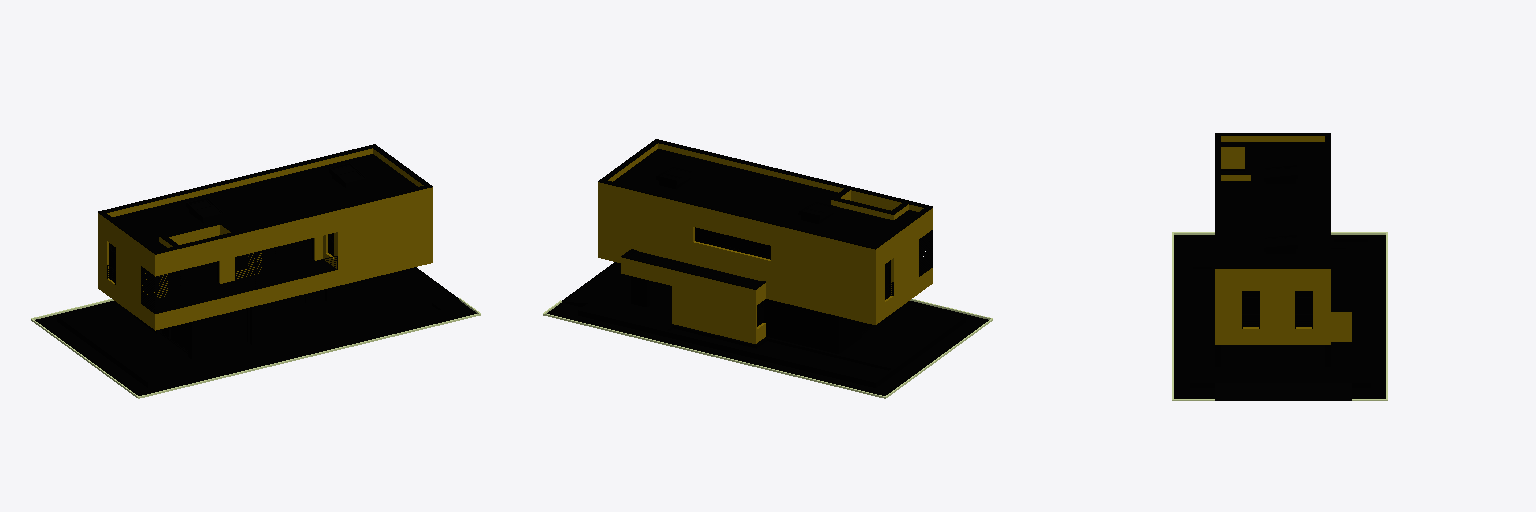
File: moder_house_2.obj
The picture shows the model from 3 angles: view 1: azimuth 30°, elevation 25°; view 2: azimuth 150°, elevation 25°; view 3: azimuth 270°, elevation 25°; orthographic projection.
Parts seen in each view (by area): view 1: modern_house_2_2, modern_house_2_3, modern_house_2_4, modern_house_2_1; view 2: modern_house_2_2, modern_house_2_3, modern_house_2_4, modern_house_2_1; view 3: modern_house_2_2, modern_house_2_3, modern_house_2_4.
Part boxes in pixels (x1,y1,x2,y2): modern_house_2_2: (98,144,432,358); modern_house_2_3: (31,267,480,398); modern_house_2_4: (109,163,366,355); modern_house_2_1: (107,247,337,313); modern_house_2_2: (598,139,932,353); modern_house_2_3: (543,262,992,398); modern_house_2_4: (656,167,890,334); modern_house_2_1: (885,230,932,299); modern_house_2_2: (1215,133,1351,366); modern_house_2_3: (1172,232,1387,400); modern_house_2_4: (1242,165,1312,326).
Bounding box in the file's own units: 796 × 274 × 433.